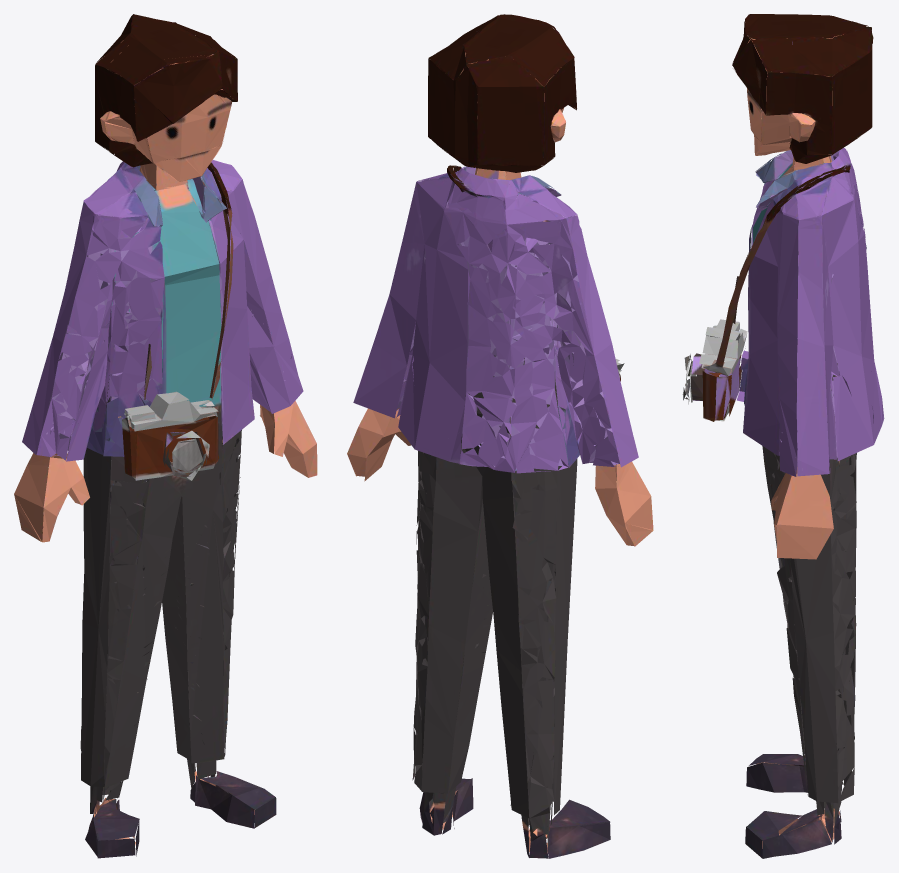
File: habitant.glb
3 renders of one model, left to right at view 1: azimuth 30°, elevation 25°; view 2: azimuth 150°, elevation 25°; view 3: azimuth 270°, elevation 25°, orthographic.
Parts seen in each view (by area): view 1: world; view 2: world; view 3: world.
Part boxes in pixels (bbox=[...]): world: bbox=[14, 14, 317, 858]; world: bbox=[347, 14, 653, 858]; world: bbox=[682, 14, 884, 858].
Bounding box in the file's own units: 0.3711 × 1 × 0.2333.
Materials: 1 (1 with a texture image).
